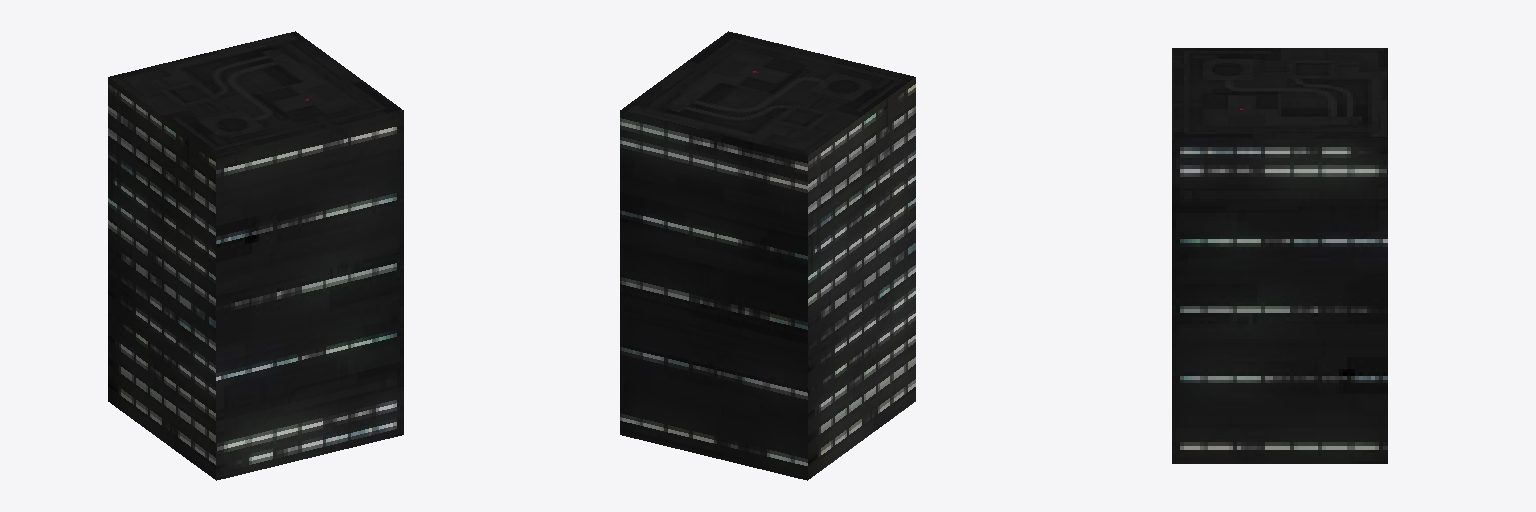
The picture shows the model from 3 angles: view 1: azimuth 30°, elevation 25°; view 2: azimuth 150°, elevation 25°; view 3: azimuth 270°, elevation 25°; orthographic projection.
Visible parts, largest first — view 1: building_6; view 2: building_6; view 3: building_6.
Boxes of the visible parts, <box> form: building_6: <box>108,31,403,480</box>; building_6: <box>620,31,915,480</box>; building_6: <box>1172,48,1387,463</box>.
Bounding box in the file's own units: 44 × 72.82 × 44.
Materials: 1 (1 with a texture image).